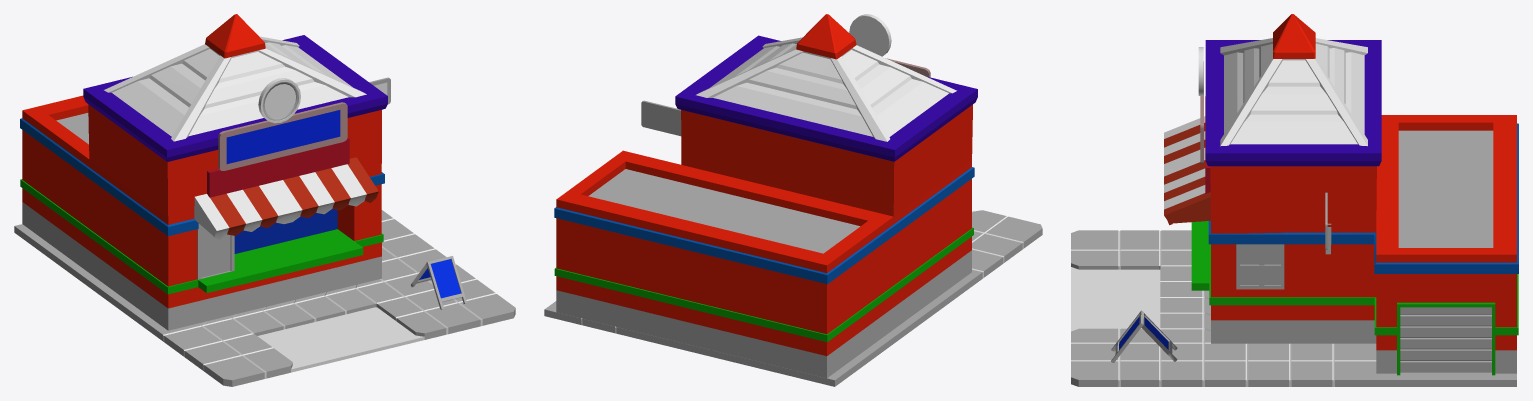
Rendered from Drive-thru.fbx.
3 views of the same model, side by side, from view 1: azimuth 30°, elevation 25°; view 2: azimuth 150°, elevation 25°; view 3: azimuth 270°, elevation 25° (orthographic). The views are drawn at different scales.
Visible parts, largest first — view 1: polySurface1, pCube2, polySurface1.001, pCube62, Cube, pCube58, pCube61, polySurface1.002, pCube60, pCylinder6, polySurface6, polySurface3 (+1 smaller); view 2: polySurface1, polySurface1.001, pCube2, polySurface1.002, pCube60, pCylinder6, pCube63; view 3: polySurface1, pCube2, polySurface1.001, polySurface2, Cube, pCube62, polySurface1.002, pCube60, polySurface6, polySurface1.004, polySurface5.
Boxes of the visible parts, x1,y1,x2,y2 form: polySurface1: [20, 89, 387, 330]; pCube2: [14, 210, 515, 386]; polySurface1.001: [83, 35, 387, 149]; pCube62: [194, 157, 378, 239]; Cube: [257, 307, 424, 372]; pCube58: [218, 102, 347, 170]; pCube61: [207, 137, 349, 197]; polySurface1.002: [104, 36, 366, 141]; pCube60: [205, 14, 265, 58]; pCylinder6: [258, 78, 300, 123]; polySurface6: [411, 256, 466, 309]; polySurface3: [201, 226, 230, 277]; polySurface1: [554, 89, 977, 378]; polySurface1.001: [675, 35, 977, 149]; pCube2: [544, 210, 1042, 386]; polySurface1.002: [696, 37, 956, 141]; pCube60: [796, 14, 856, 59]; pCylinder6: [849, 14, 891, 56]; pCube63: [641, 100, 681, 136]; polySurface1: [1191, 115, 1518, 373]; pCube2: [1071, 230, 1516, 386]; polySurface1.001: [1205, 40, 1381, 153]; polySurface2: [1400, 307, 1491, 372]; Cube: [1071, 267, 1160, 331]; pCube62: [1164, 116, 1210, 225]; polySurface1.002: [1220, 38, 1367, 146]; pCube60: [1273, 14, 1315, 58]; polySurface6: [1111, 310, 1177, 362]; polySurface1.004: [1397, 302, 1495, 375]; polySurface5: [1236, 244, 1284, 289].
Bounding box in the file's own units: 687 × 603 × 870.
